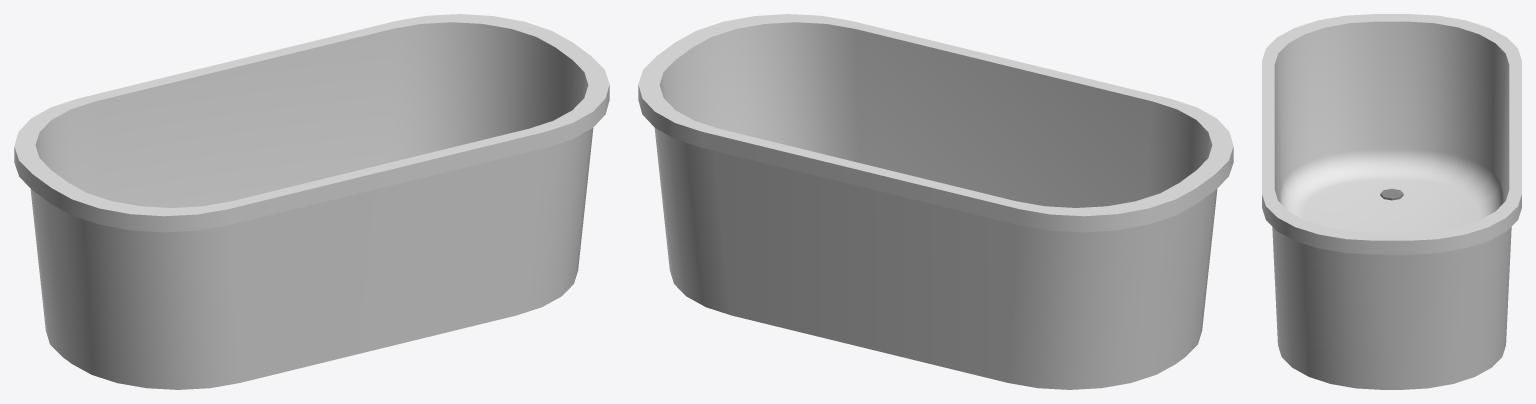
The model's file is Bathroom_05.fbx.
3 views of the same model, side by side, from view 1: azimuth 30°, elevation 25°; view 2: azimuth 150°, elevation 25°; view 3: azimuth 270°, elevation 25° (orthographic). The views are drawn at different scales.
Parts seen in each view (by area): view 1: Bathroom_05; view 2: Bathroom_05; view 3: Bathroom_05.
Boxes of the visible parts, x1,y1,x2,y2 form: Bathroom_05: (14,14,609,389); Bathroom_05: (638,14,1233,389); Bathroom_05: (1262,14,1521,389).
Bounding box in the file's own units: 167 × 54.77 × 80.73.
